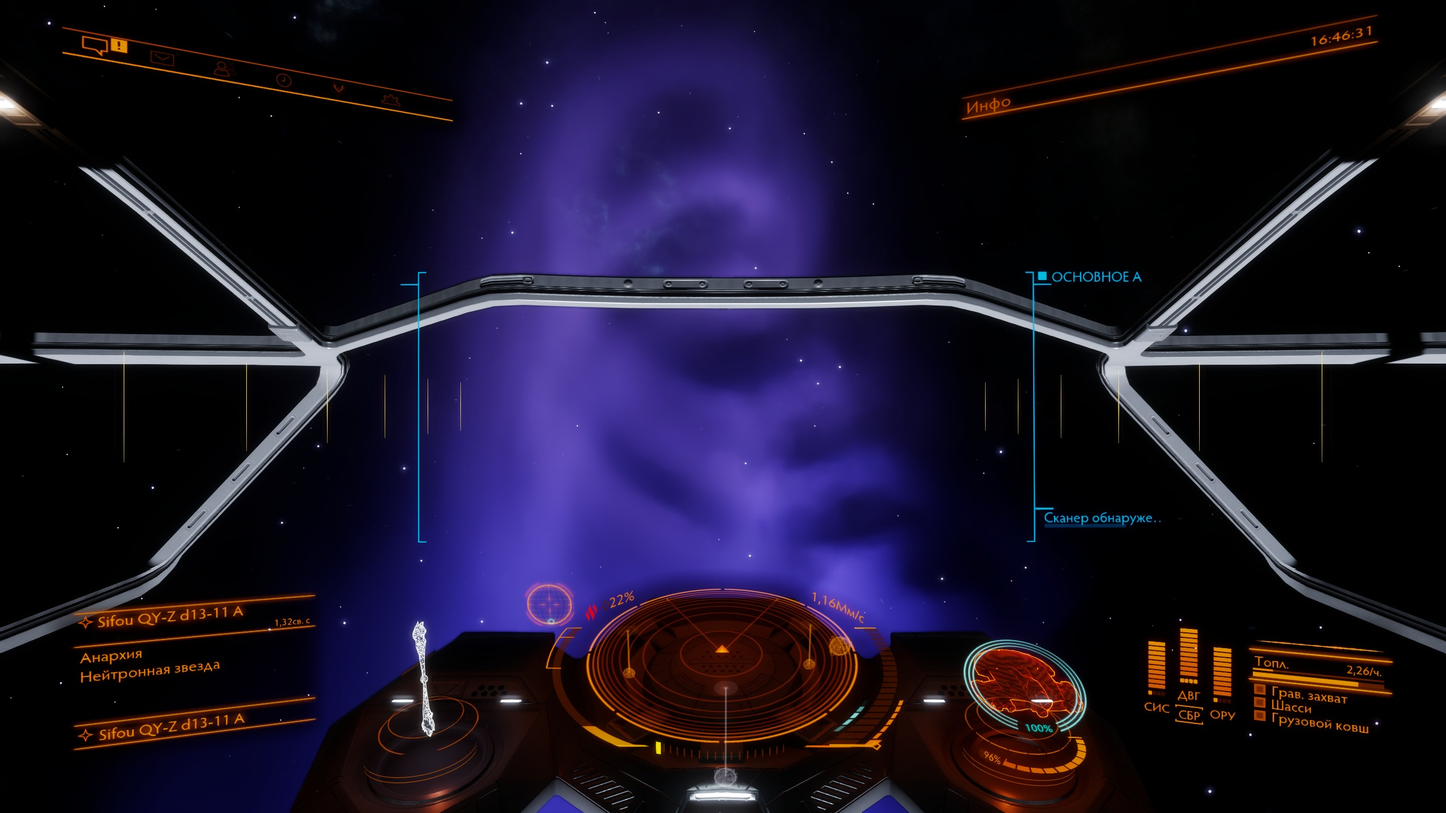jetcone: (403, 21, 990, 614)
